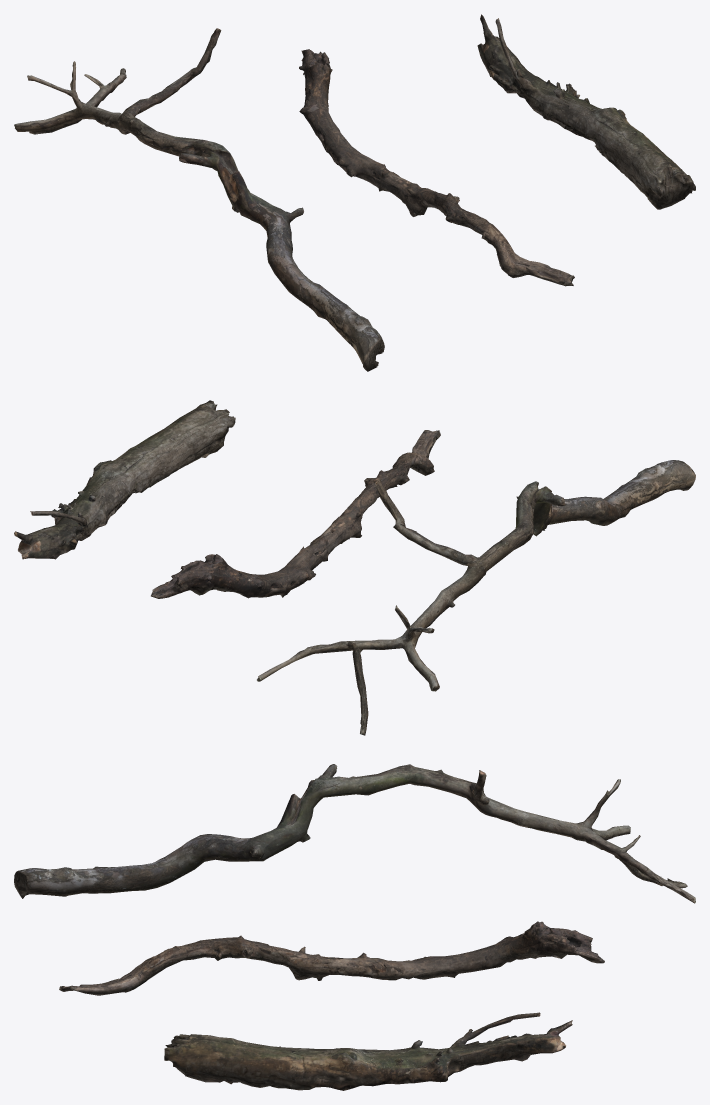
File: dry_branches_medium_01.glb
3 views of the same model, one above another, from view 1: azimuth 30°, elevation 25°; view 2: azimuth 150°, elevation 25°; view 3: azimuth 270°, elevation 25° (orthographic). The views are drawn at different scales.
Visible parts, largest first — view 1: dry_branches_medium_01_a, dry_branches_medium_01_c, dry_branches_medium_01_b; view 2: dry_branches_medium_01_a, dry_branches_medium_01_c, dry_branches_medium_01_b; view 3: dry_branches_medium_01_a, dry_branches_medium_01_c, dry_branches_medium_01_b.
Part boxes in pixels (x1=…): dry_branches_medium_01_a: x1=14, y1=28, x2=384, y2=371; dry_branches_medium_01_c: x1=477, y1=14, x2=695, y2=209; dry_branches_medium_01_b: x1=299, y1=49, x2=574, y2=286; dry_branches_medium_01_a: x1=257, y1=460, x2=695, y2=735; dry_branches_medium_01_c: x1=14, y1=400, x2=235, y2=559; dry_branches_medium_01_b: x1=151, y1=430, x2=440, y2=598; dry_branches_medium_01_a: x1=14, y1=764, x2=695, y2=903; dry_branches_medium_01_c: x1=164, y1=1012, x2=572, y2=1090; dry_branches_medium_01_b: x1=59, y1=921, x2=604, y2=995.
Size of the model in its own units: 1.06 by 0.3403 by 1.3.
1 material, 1 textured.
